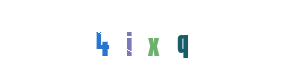4: (62, 0, 142, 80)
I: (105, 0, 185, 80)
Q: (143, 0, 223, 80)
X: (110, 0, 190, 80)
